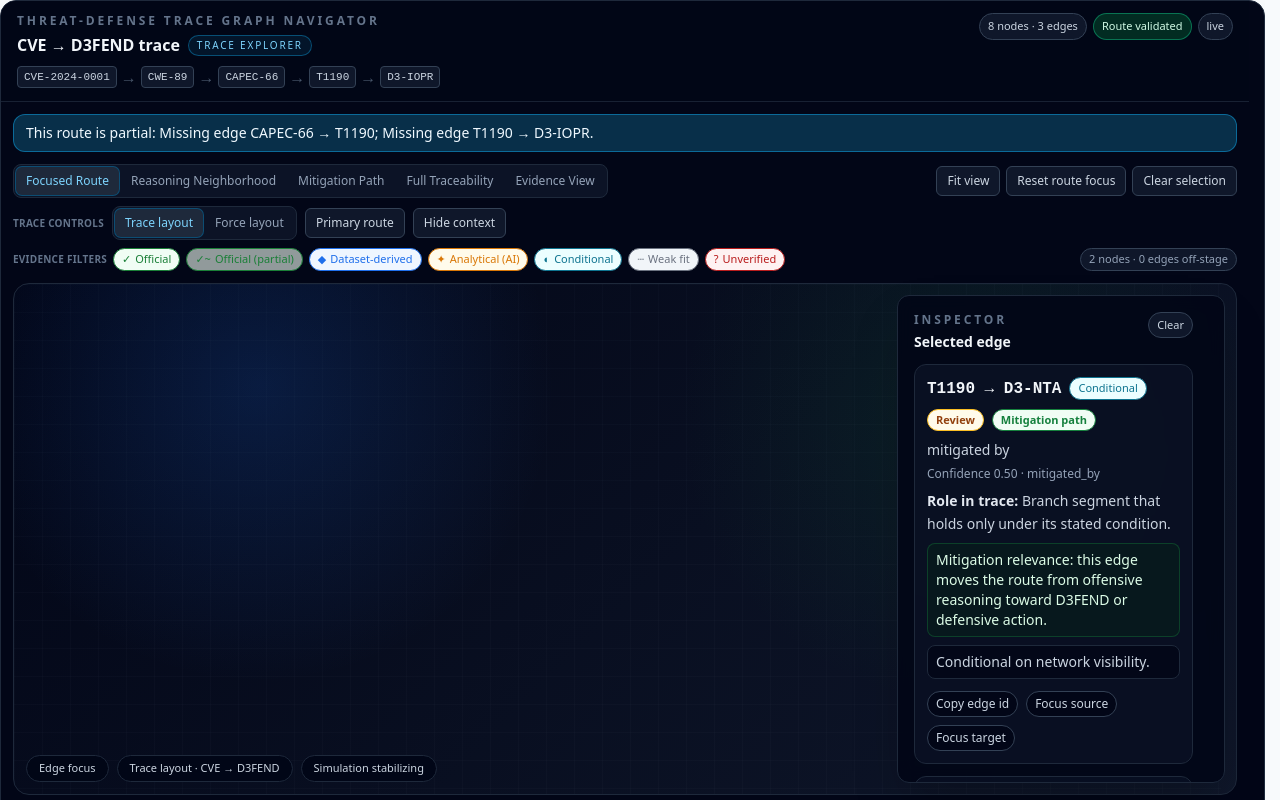
ThreatDefenseGraphNavigator › explains when the selected edge is hidden by active filters
Step 1. Click the button "◐ Conditional" → (578,259), box [534,248,622,270]
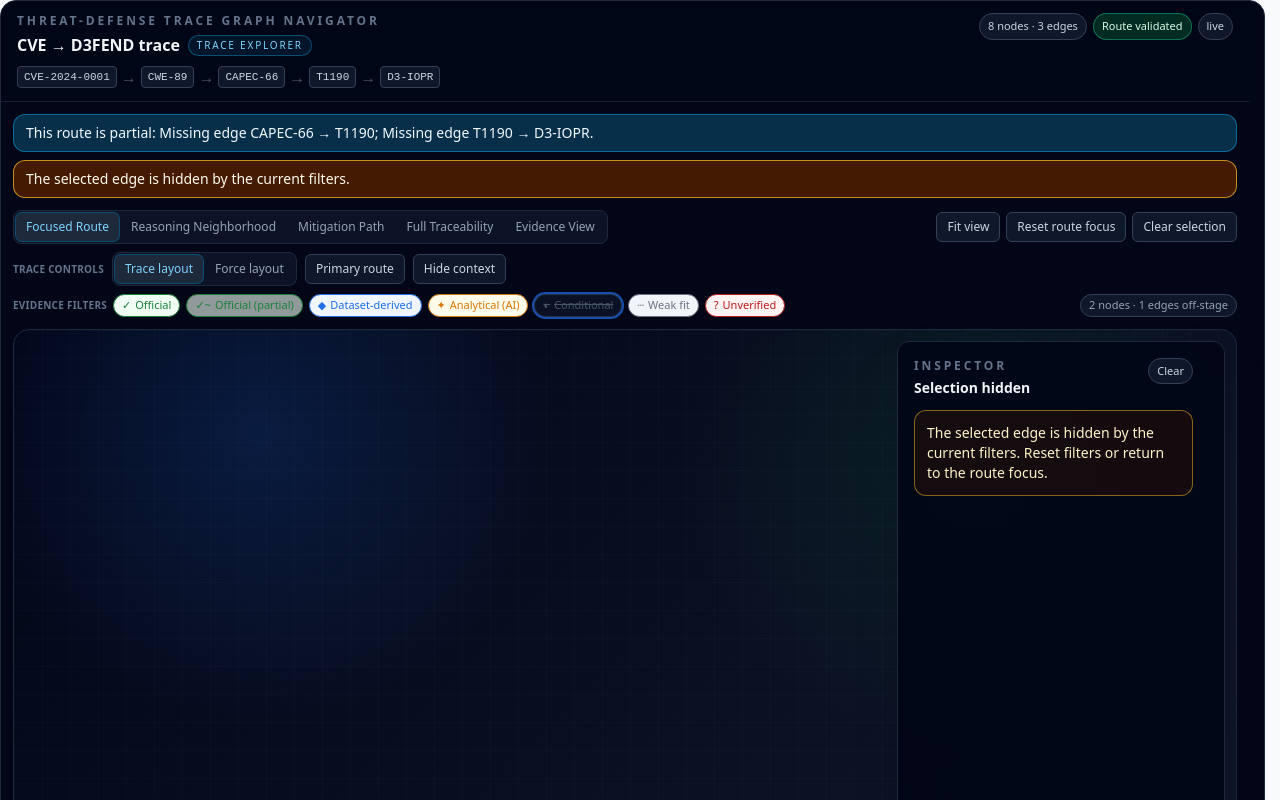
Result: the text "The selected edge is hidden by the current filters." is shown at [13,160,1237,198]
Result: the text "Reset filters or return to the route focus" is shown at [927,442,1164,482]
